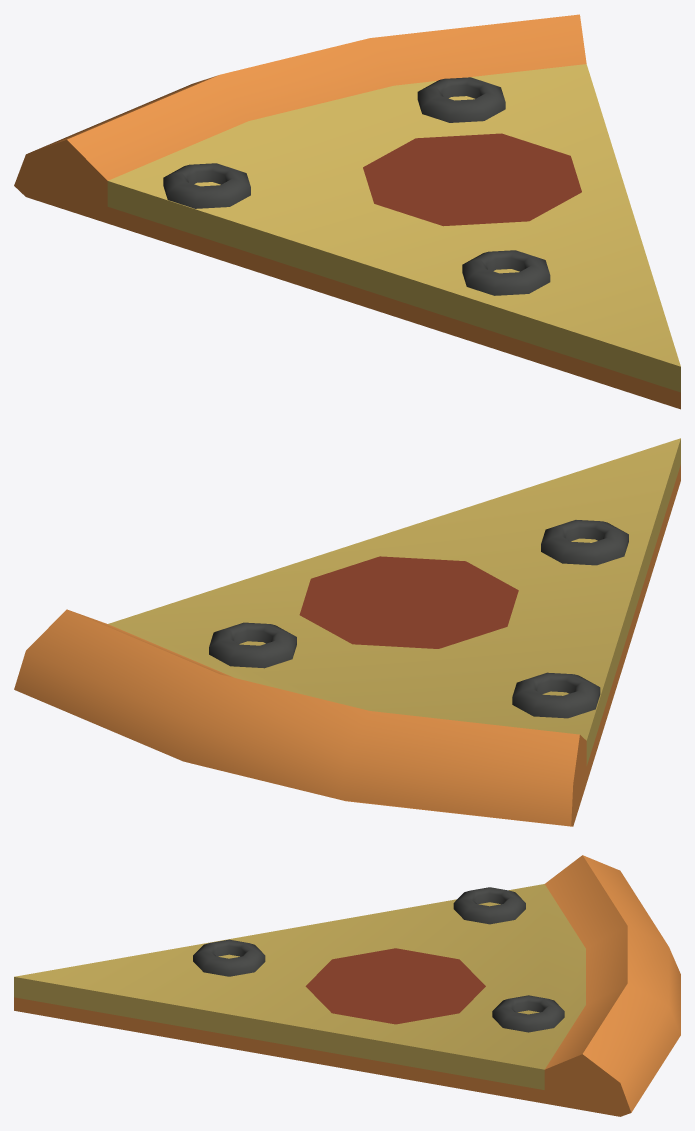
The model's file is PizzaSlice_02.fbx.
The picture shows the model from 3 angles, top to bottom: view 1: azimuth 30°, elevation 25°; view 2: azimuth 150°, elevation 25°; view 3: azimuth 270°, elevation 25°; orthographic projection. The views are drawn at different scales.
Parts seen in each view (by area): view 1: PizzaSlice_02; view 2: PizzaSlice_02; view 3: PizzaSlice_02.
Part boxes in pixels (left/top/right/bottom): PizzaSlice_02: left=14, top=14, right=680, bottom=409; PizzaSlice_02: left=14, top=438, right=680, bottom=826; PizzaSlice_02: left=14, top=855, right=680, bottom=1116.
Size of the model in its own units: 0.1606 by 0.0195 by 0.2094.
